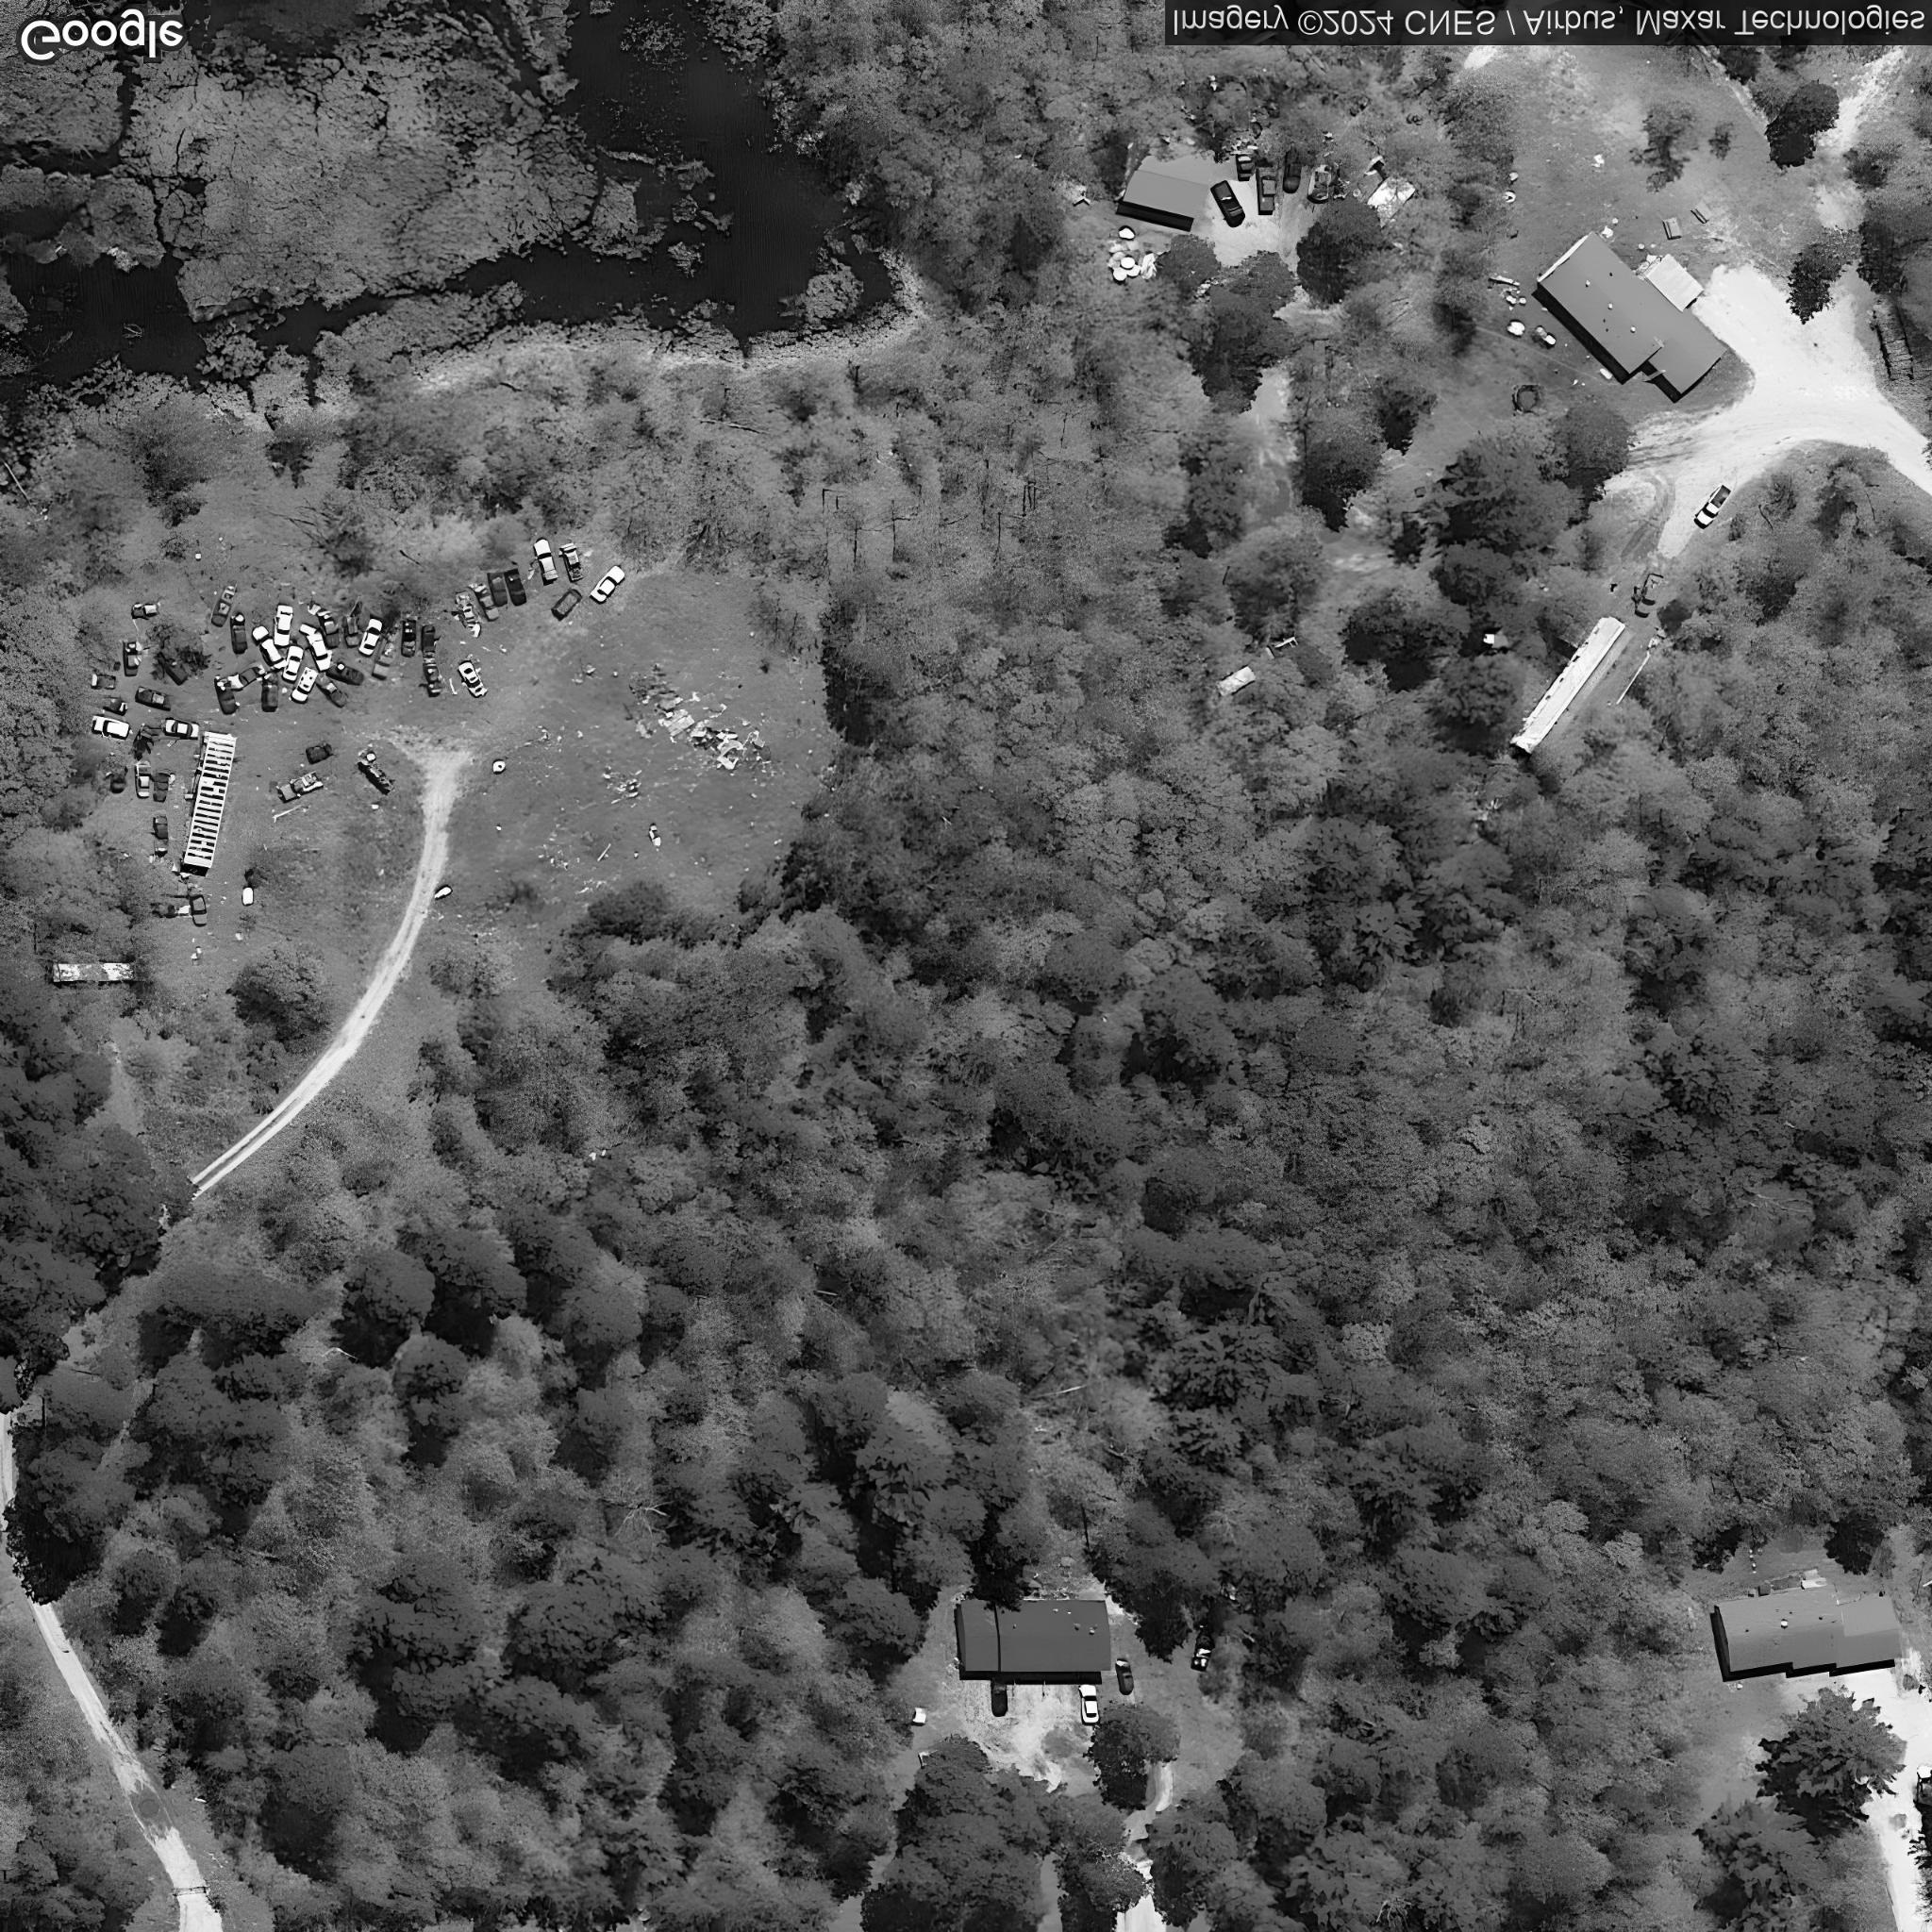Garage: (1120, 133, 1214, 221)
House: (1534, 230, 1727, 396), (1714, 1582, 1904, 1674), (954, 1596, 1113, 1672)
Propane: (1534, 322, 1562, 350)
Trailer: (1511, 616, 1638, 764), (180, 727, 241, 870)
